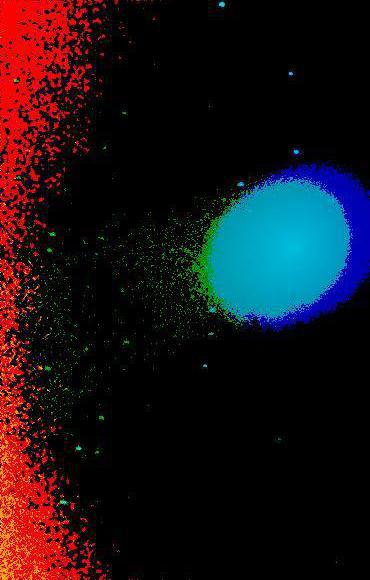star: (211, 185, 241, 215)
